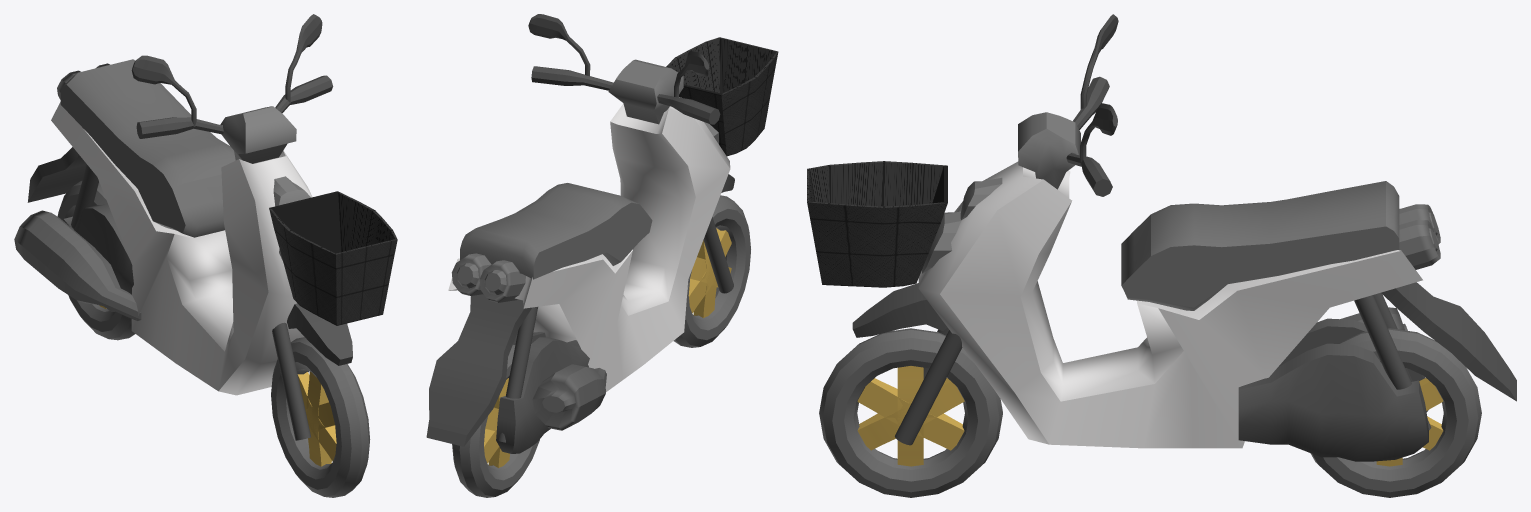
The model's file is BWS.fbx.
3 views of the same model, side by side, from view 1: azimuth 30°, elevation 25°; view 2: azimuth 150°, elevation 25°; view 3: azimuth 270°, elevation 25° (orthographic). The views are drawn at different scales.
Parts seen in each view (by area): view 1: Body, Seat, Baseket, Tire (×2), AirPipe, Handle, Dashboard, Trans, Rim, Blocker, Pillar1, Blocker1 (+2 smaller); view 2: Body, Seat, Blocker1, Tire (×2), Baseket, Trans, Handle, AirPipe, Dashboard, Rim (×2), BreakLight1, Pillar (+2 smaller); view 3: Body, Tire (×2), Seat, Trans, Baseket, Rim (×2), Blocker1, Dashboard, Handle, Blocker, Pillar1, Pillar (+3 smaller).
Boxes of the visible parts, <box> form: Body: <box>51,102,312,395</box>; Seat: <box>60,59,235,237</box>; Baseket: <box>269,191,397,325</box>; Tire (×2): <box>57,181,370,497</box>; AirPipe: <box>14,210,141,320</box>; Handle: <box>131,14,333,138</box>; Dashboard: <box>220,106,296,163</box>; Trans: <box>63,204,133,311</box>; Rim: <box>297,372,336,466</box>; Blocker: <box>287,303,352,365</box>; Pillar1: <box>272,322,310,440</box>; Blocker1: <box>27,147,86,202</box>; Body: <box>448,103,730,391</box>; Seat: <box>460,183,652,279</box>; Blocker1: <box>426,294,531,446</box>; Tire (×2): <box>452,195,750,497</box>; Baseket: <box>666,37,778,156</box>; Trans: <box>496,332,589,453</box>; Handle: <box>528,14,720,124</box>; AirPipe: <box>532,364,606,430</box>; Dashboard: <box>608,59,683,124</box>; Rim (×2): <box>484,228,731,467</box>; BreakLight1: <box>479,260,525,302</box>; Pillar: <box>498,307,537,442</box>; Body: <box>918,161,1422,448</box>; Tire (×2): <box>819,328,1481,497</box>; Seat: <box>1121,181,1399,310</box>; Trans: <box>1238,318,1428,461</box>; Baseket: <box>807,161,947,287</box>; Rim (×2): <box>857,366,1443,466</box>; Blocker1: <box>1381,282,1516,401</box>; Dashboard: <box>1018,112,1080,189</box>; Handle: <box>1066,14,1118,196</box>; Blocker: <box>852,283,947,337</box>; Pillar1: <box>895,327,962,445</box>; Pillar: <box>1354,292,1431,430</box>.
Size of the model in its own units: 9.05 by 17.6 by 26.03.
11 materials, 1 textured.
